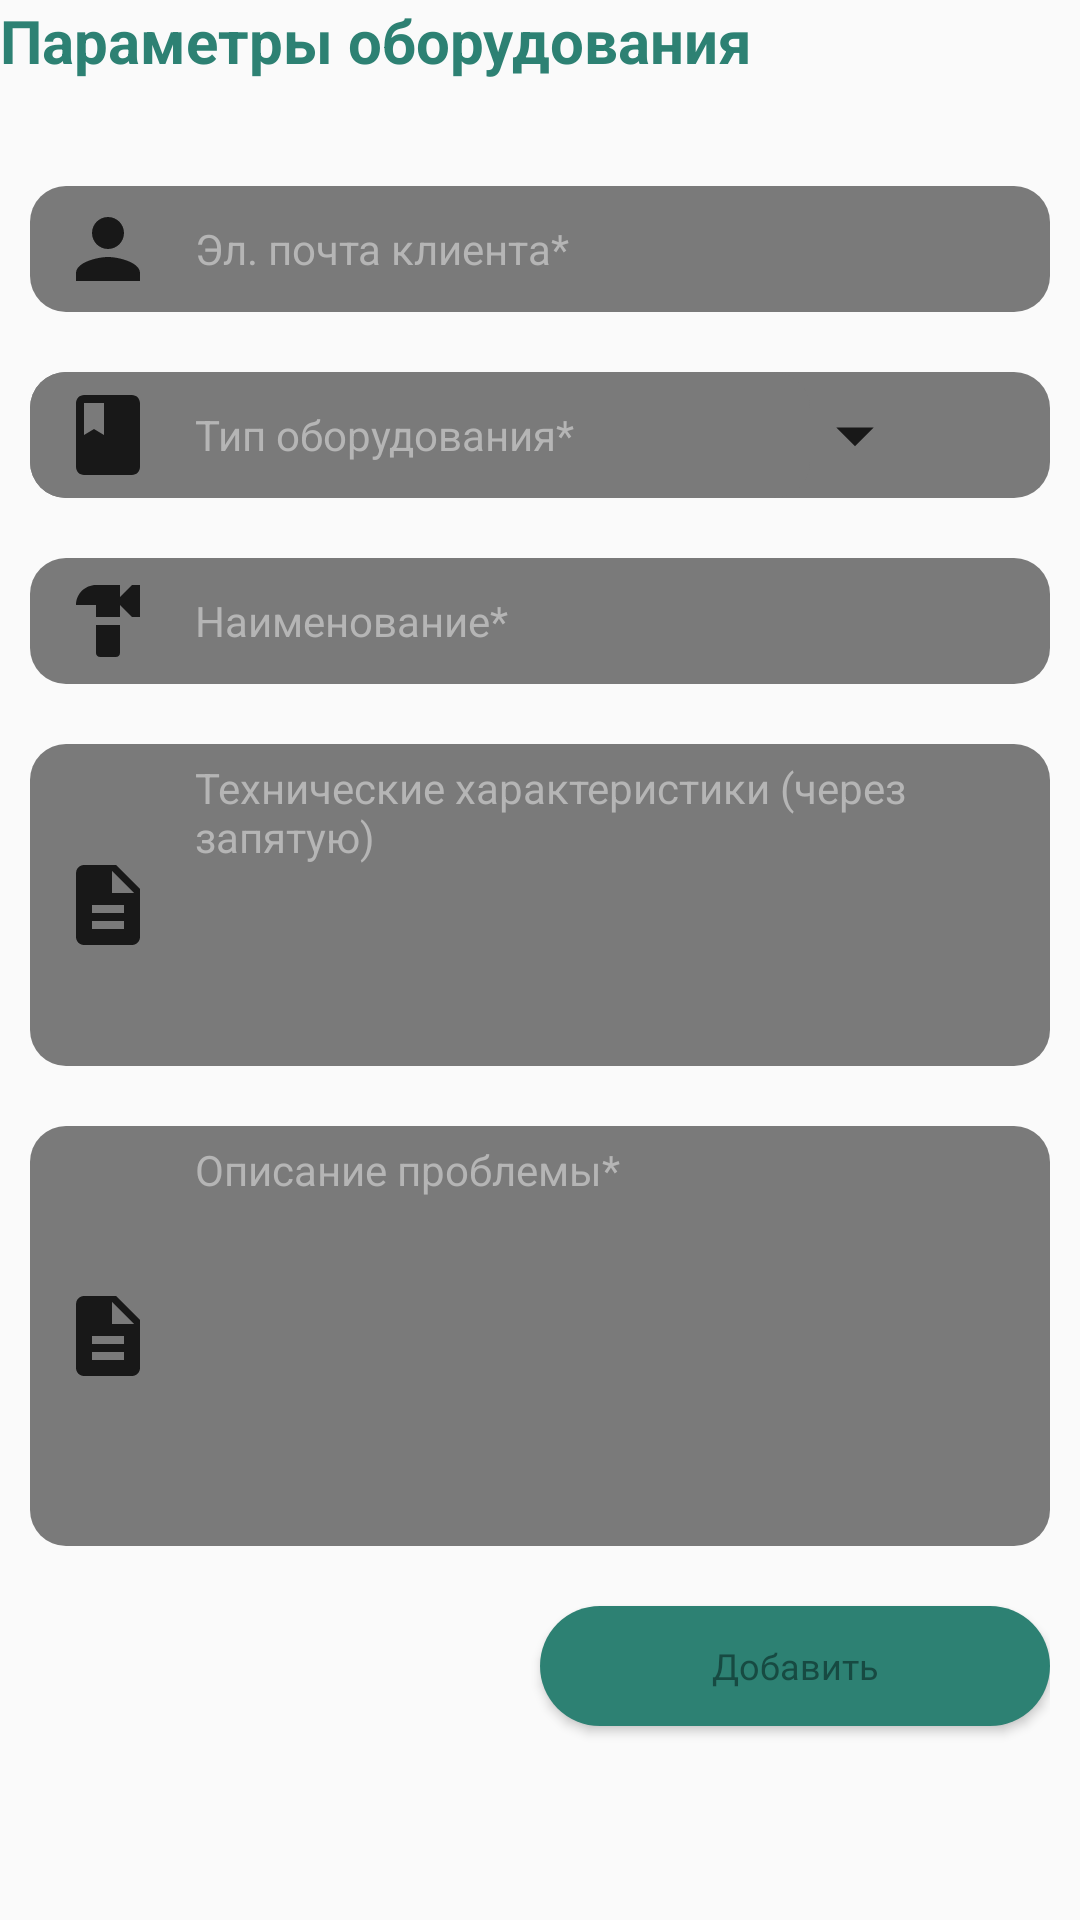

Where icons sit on this 1080×1920 app screen, as (x1, y1, x2, y2):
down list: (837, 427, 873, 446)
